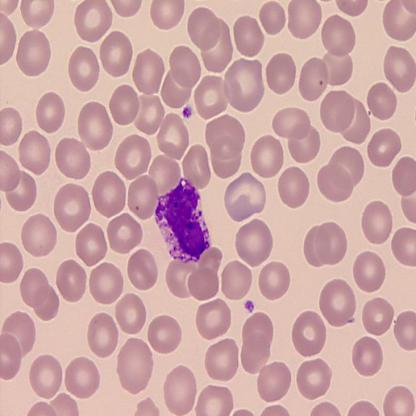Basophil: (153, 174, 212, 268)
